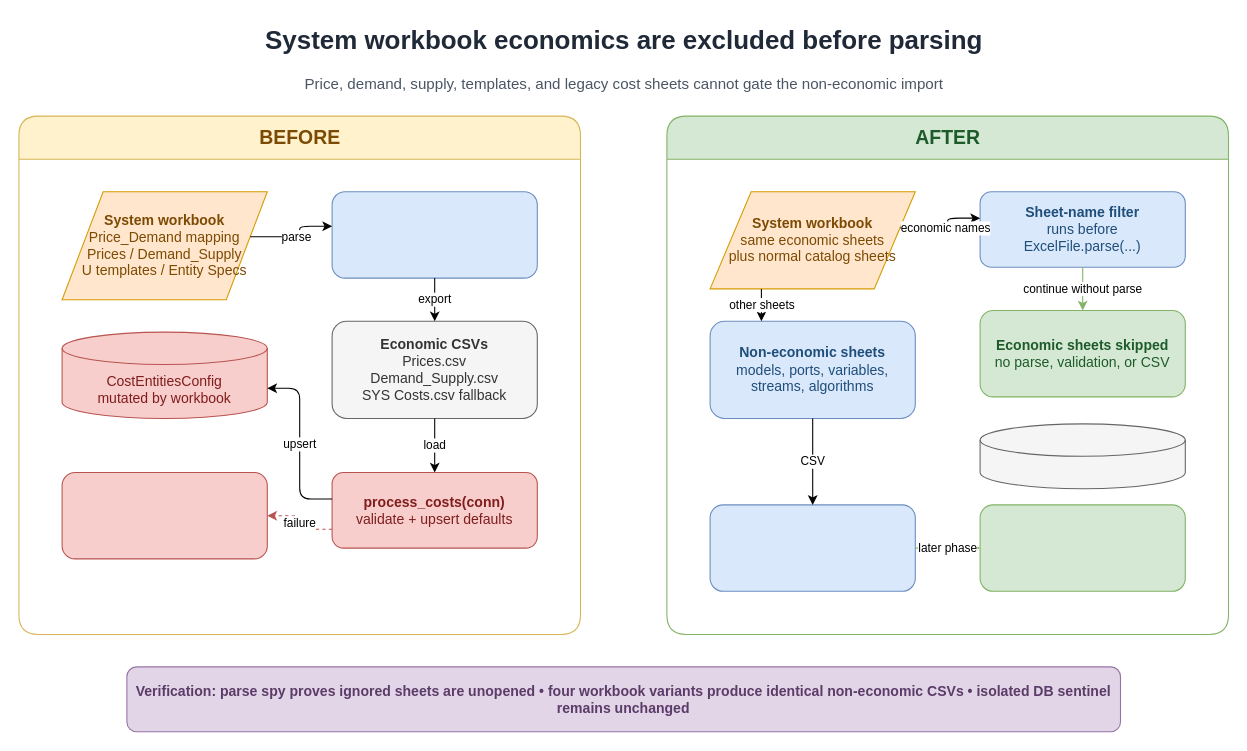
The diagram is 1247 pixels wide and 751 high, and some of its shapes have lost their labels. Here are the shapes that lost their labels. From the top down, the centre of each, then its label:
At (434,234): "Resolve mapping parse and validate every economic sheet".
At (1082,456): "CostEntitiesConfig preserved; seed/runtime owned".
At (164,515): "Import gate malformed or empty contract can stop later phases".
At (812,547): "migrate.main() process_run_configs → algorithms → mappings".
At (1082,547): "process_streams runs streams remain selectable".
